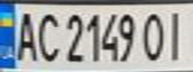1: (81, 9, 103, 63)
2: (60, 8, 84, 63)
4: (100, 9, 121, 62)
9: (115, 9, 142, 63)
A: (9, 7, 39, 62)
C: (33, 8, 60, 63)
I: (163, 7, 193, 61)
O: (139, 8, 169, 62)
